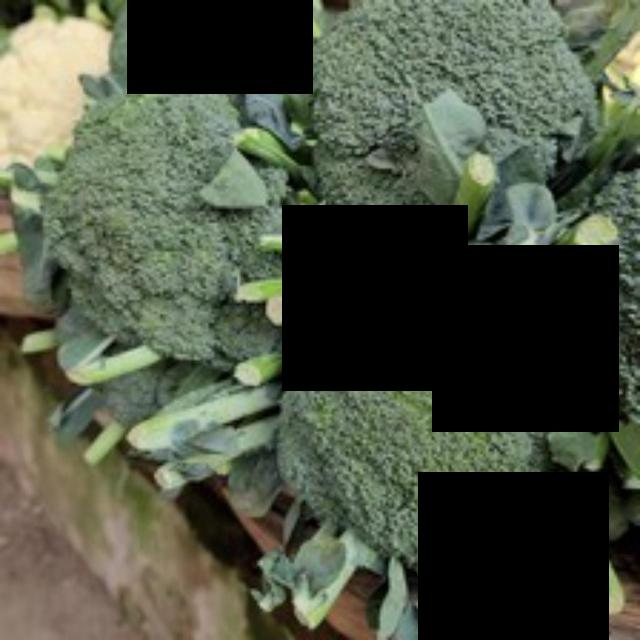broccoli: (270, 256, 596, 588)
